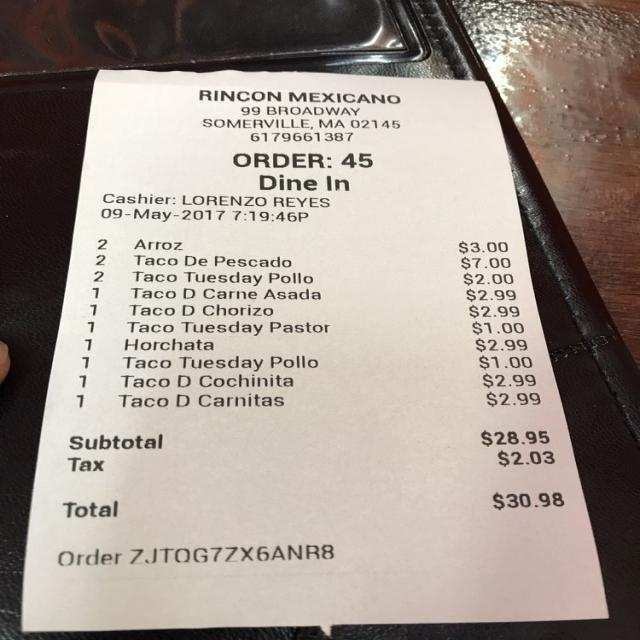TotalPrice: (42, 482, 575, 527)
